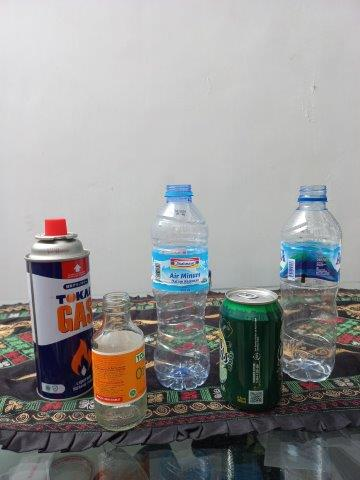botolkaca: (92, 294, 147, 431)
botolplastik: (280, 185, 341, 383), (153, 184, 210, 388)
kaleng: (25, 218, 93, 402), (217, 289, 282, 412)
